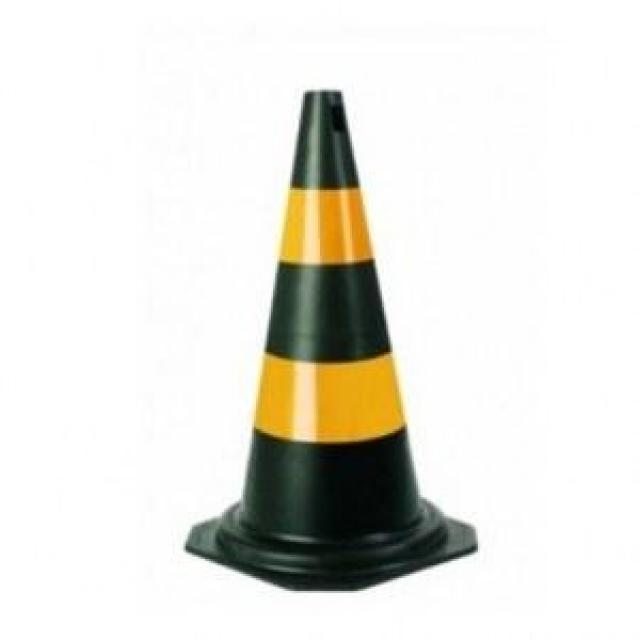cone: (203, 79, 452, 570)
